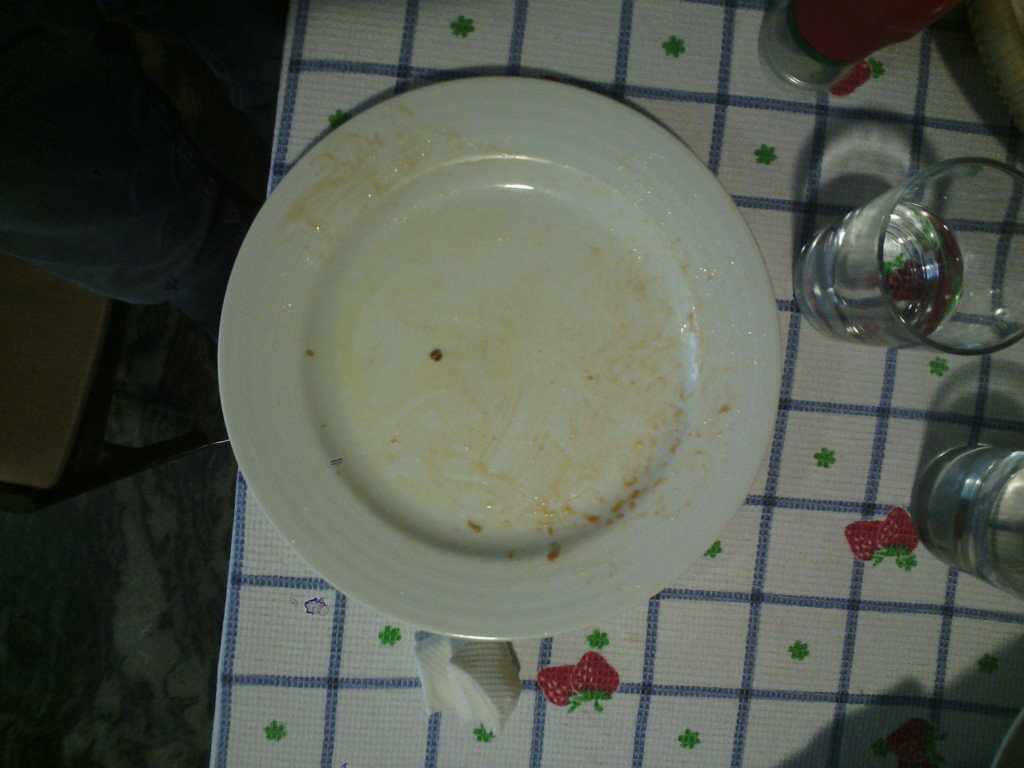0-20: (216, 73, 779, 640)
